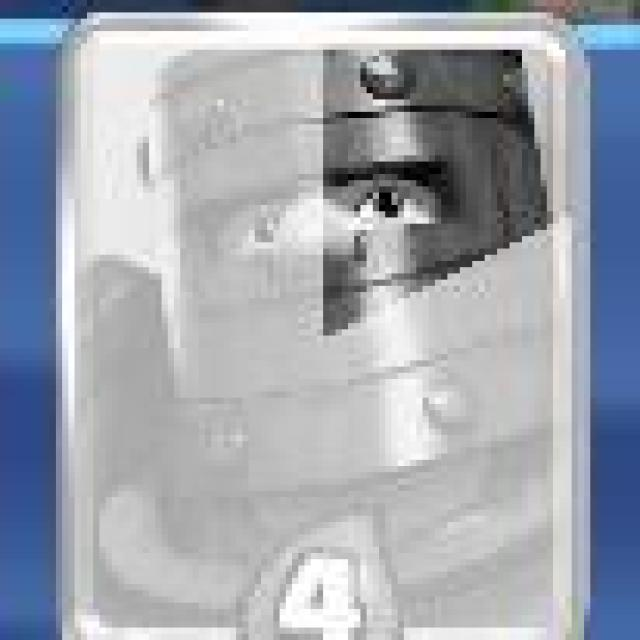Dark_Prince: (51, 10, 595, 640)
